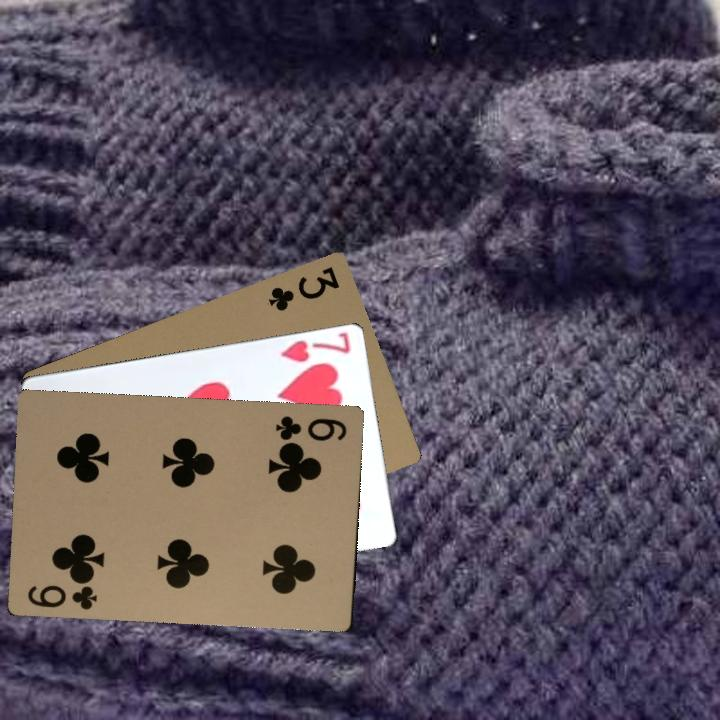3c: (265, 262, 343, 314)
6c: (23, 574, 100, 613), (272, 411, 349, 446)
7h: (276, 328, 353, 365)
